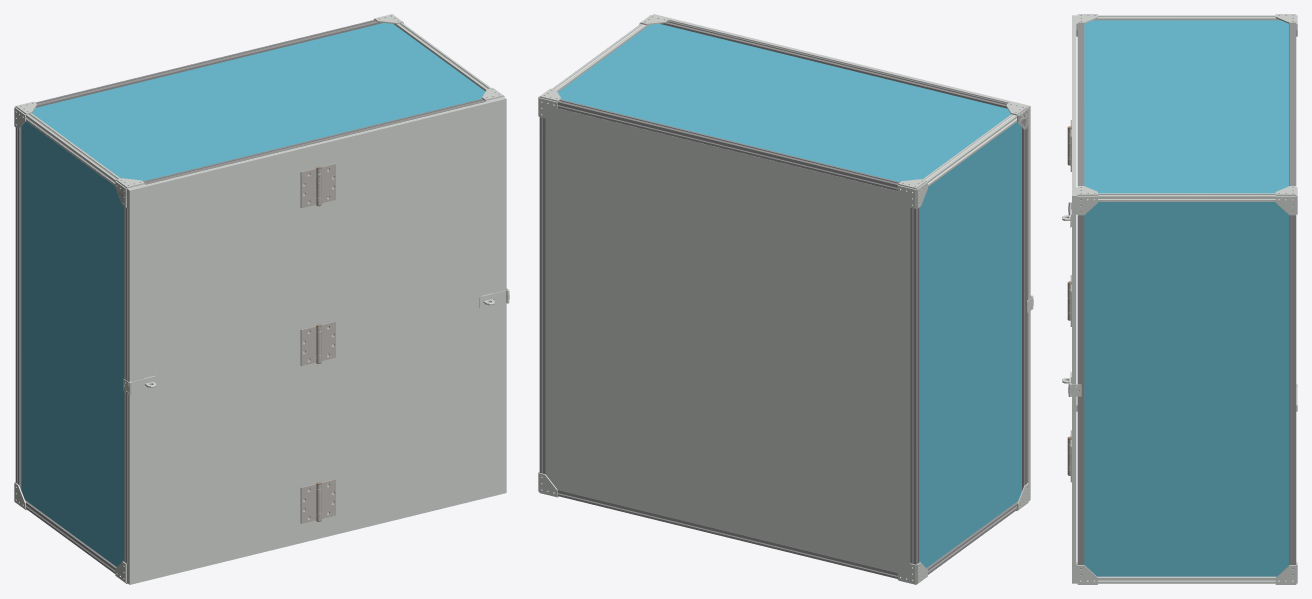
The model's file is undercity-arena.glb.
3 views of the same model, side by side, from view 1: azimuth 30°, elevation 25°; view 2: azimuth 150°, elevation 25°; view 3: azimuth 270°, elevation 25° (orthographic).
Bounding box in the file's own units: 1261 × 1257 × 687.
